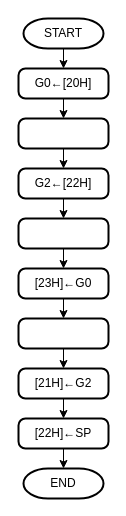
Some shapes in this 126 by 516 pixel diagram are drawn without their labels. Here are the shapes that lost their labels. From the top down, the box of each, then its label:
(17, 117, 109, 149): G1←[21H]
(17, 217, 109, 249): SP←[23H]
(17, 317, 109, 349): [20H]←G1
